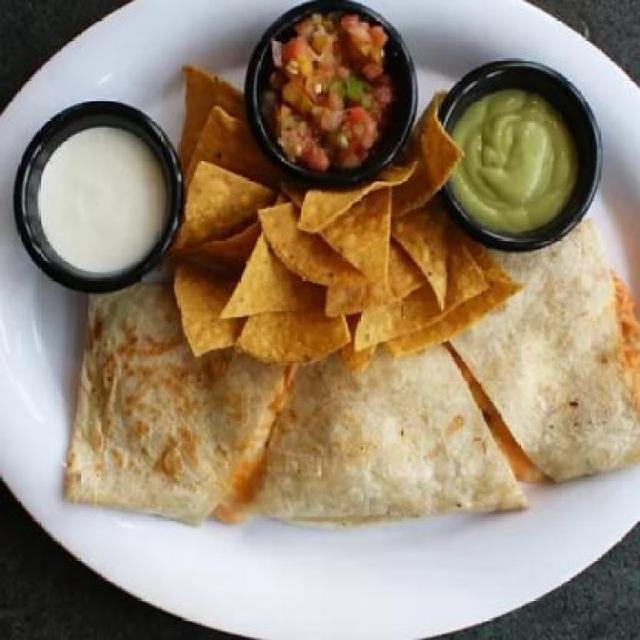chicken quesadilla: (47, 283, 639, 520)
guacamole: (442, 58, 589, 231)
nachos: (165, 49, 518, 354)
